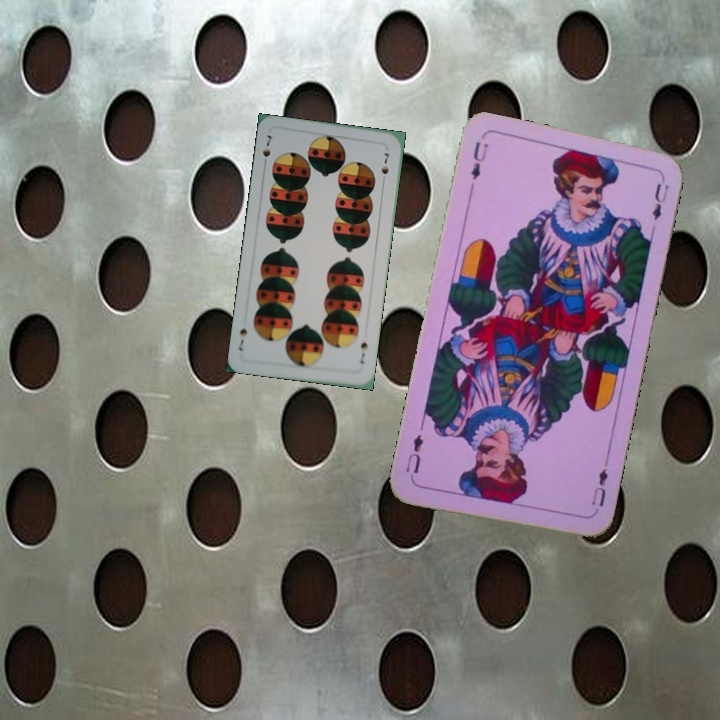EU: (587, 458, 611, 510), (467, 137, 491, 183)
S7: (258, 131, 274, 160), (356, 338, 370, 367)
